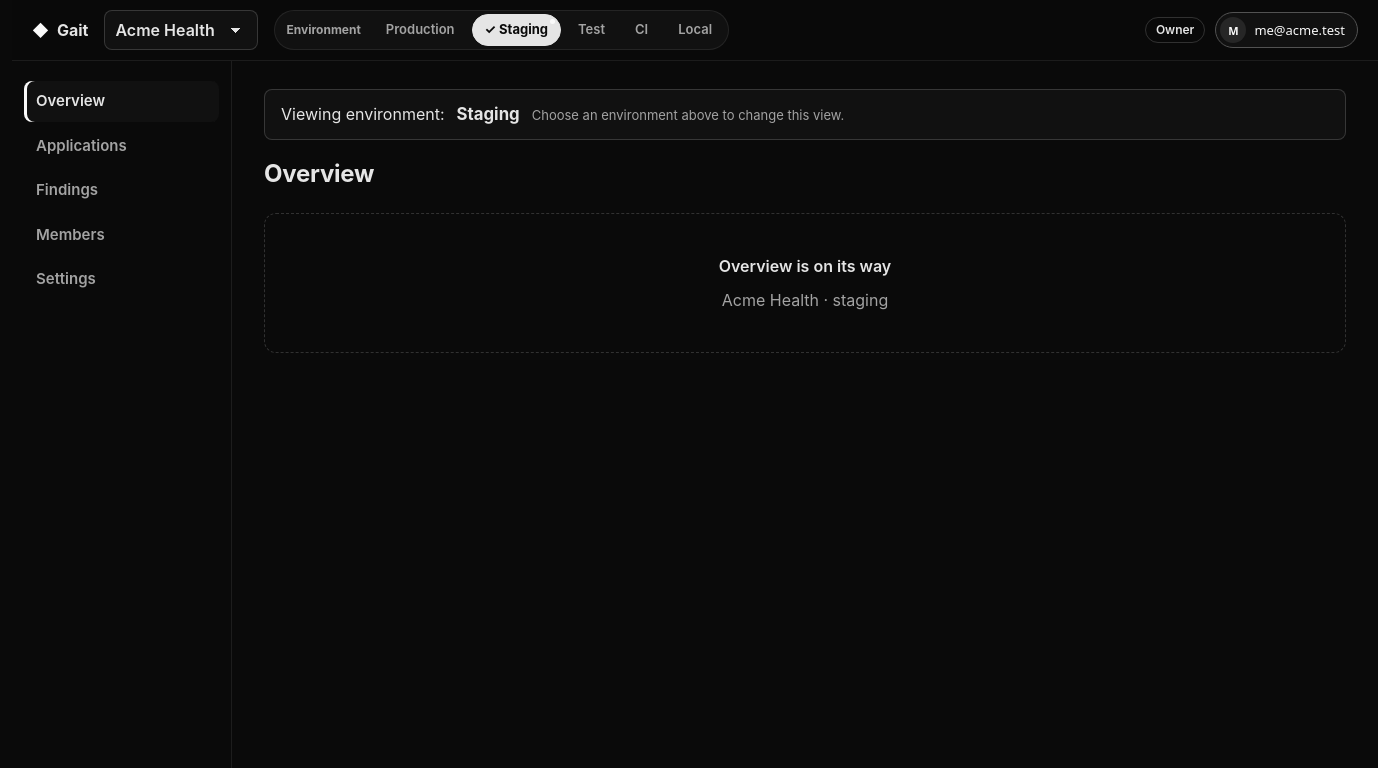
Test: ConsoleLayout gating › choosing an environment updates ?env=
What coordinates should you click on to do the following:
click the button "Production"
I would click on:
 (420, 30)
Its box is [373,14,468,46].
(page scrolled)
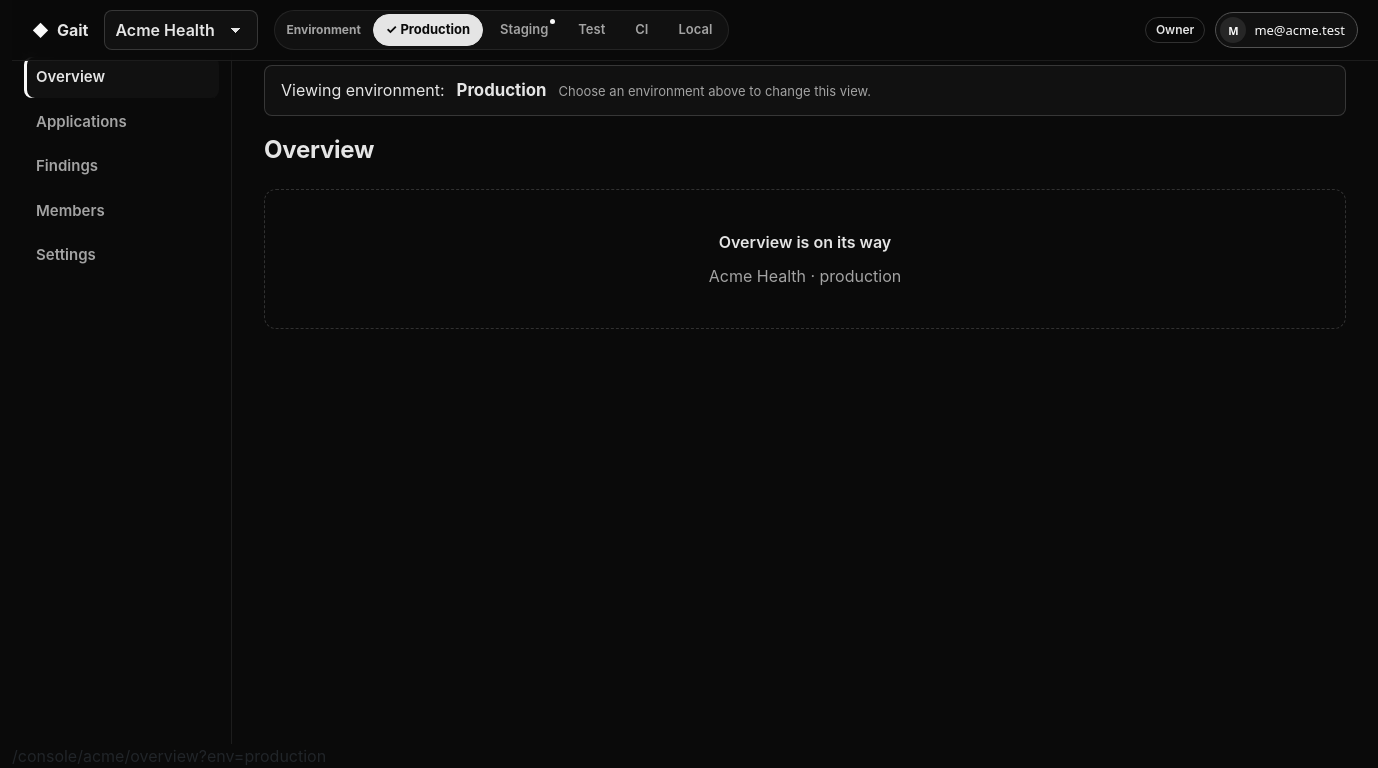
Expected: the text with test id "location" shows "env=production", [12,746,326,766]
